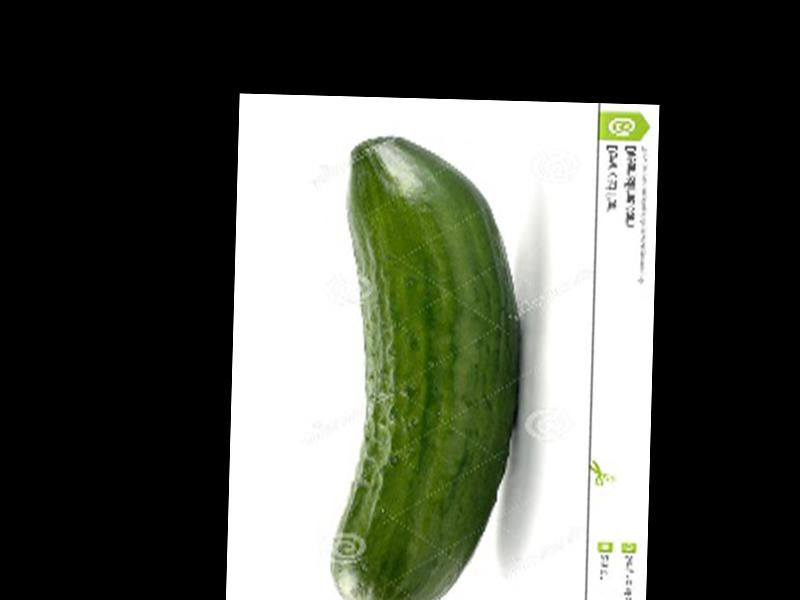Cucumber: (335, 138, 525, 600)
